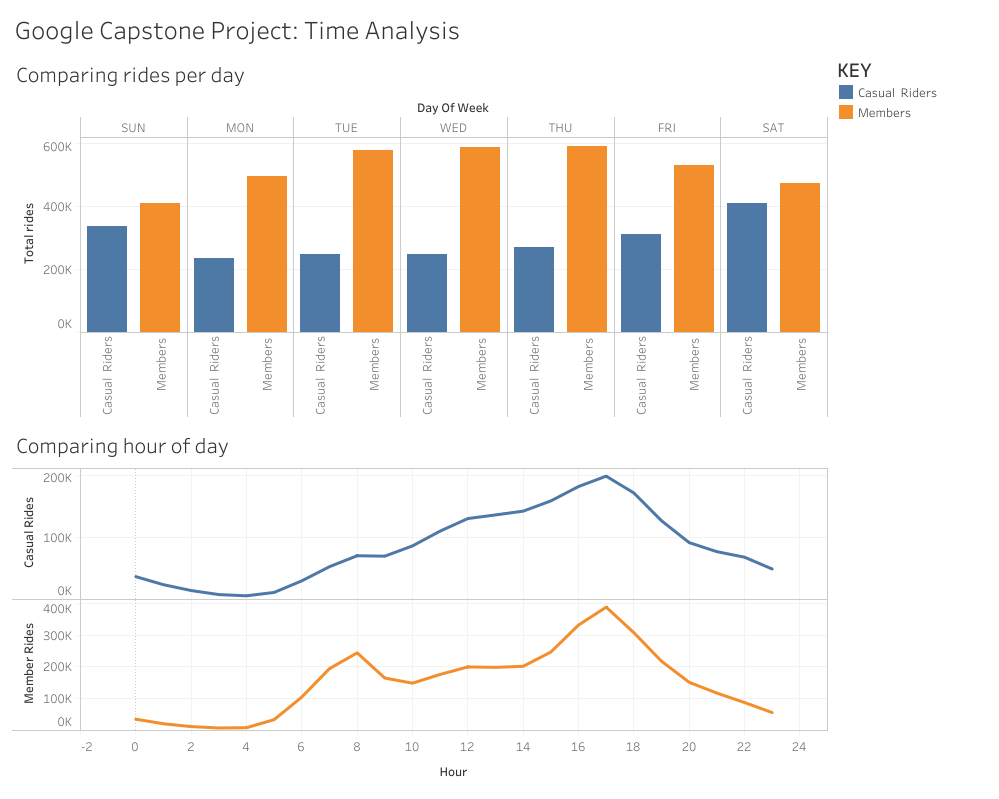

What the dashboard file says about the page in this screenshot:
{"tool":"tableau","page":{"name":"Dashboard 1","canvas":[1000,800],"ordinal":0},"visuals":[{"type":"title","box":[8,8,984,42]},{"type":"worksheet","title":"Sheet 1","mark":"Automatic","cols":["day_of_week"],"box":[8,50,824,371]},{"type":"legend","title":"Sheet 1","param":"[federated.1hrui9s16m3jx1166agr01ikk4bv].[:Measure Names]","box":[832,50,160,76]},{"type":"worksheet","title":"Sheet 2","mark":"Automatic","rows":["num_rides_cas","num_rides_mem"],"cols":["hour"],"box":[8,421,824,371]}]}

Visuals, with their boxes in screenshot pixels (x1, y1, x2, y2), scaled from the page's 1000x800 canvas onto the 999x799 screenshot:
title: (8, 8, 991, 50)
"Sheet 1" worksheet: (8, 50, 831, 420)
"Sheet 1" legend: (831, 50, 991, 126)
"Sheet 2" worksheet: (8, 420, 831, 791)
